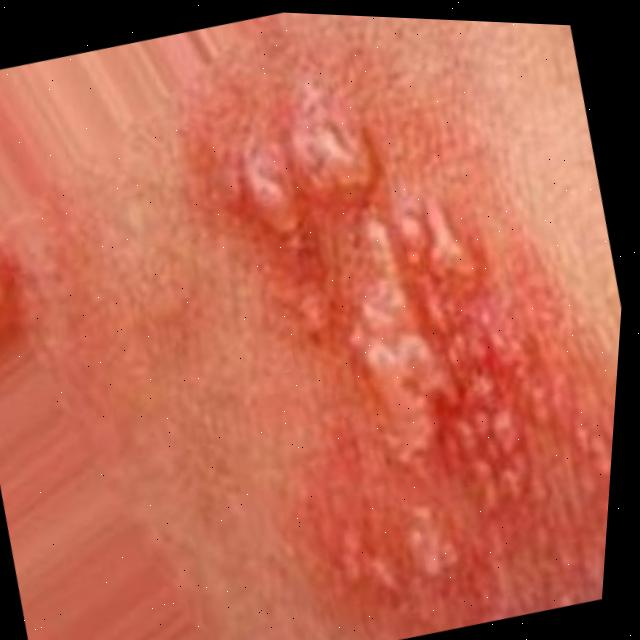Shingles: (144, 8, 640, 640)
